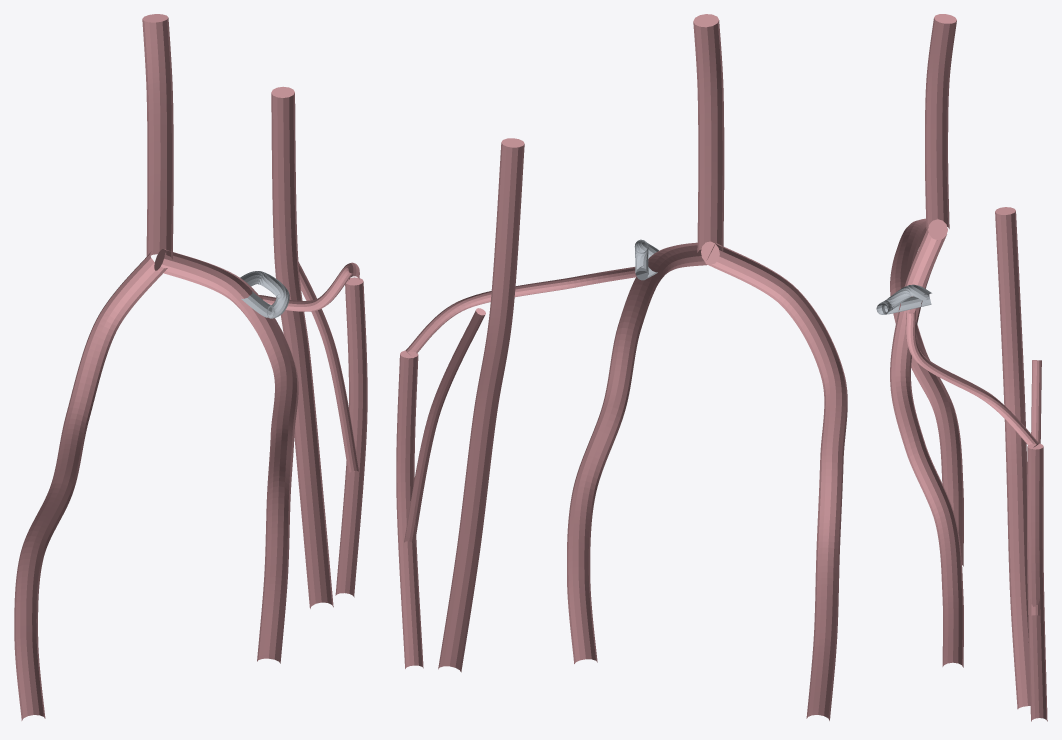
File: craniocervical_normal.glb
3 renders of one model, left to right at view 1: azimuth 30°, elevation 25°; view 2: azimuth 150°, elevation 25°; view 3: azimuth 270°, elevation 25°, orthographic. The views are drawn at different scales.
Parts seen in each view (by area): view 1: Vertebral esquerda (V1–V4 esquemático), ACI cervical — referência, Vertebral direita (V1–V4 esquemático), Basilar, Carótida externa — referência, Faríngea ascendente, Forame transversário C1 — guia, Artéria occipital; view 2: ACI cervical — referência, Vertebral esquerda (V1–V4 esquemático), Vertebral direita (V1–V4 esquemático), Basilar, Carótida externa — referência, Faríngea ascendente, Artéria occipital; view 3: ACI cervical — referência, Vertebral direita (V1–V4 esquemático), Vertebral esquerda (V1–V4 esquemático), Basilar, Carótida externa — referência, Artéria occipital, Forame transversário C1 — guia, Faríngea ascendente.
Part boxes in pixels (x1,y1,x2,y2): Vertebral esquerda (V1–V4 esquemático): (14, 252, 167, 720); ACI cervical — referência: (271, 86, 333, 608); Vertebral direita (V1–V4 esquemático): (154, 249, 298, 663); Basilar: (142, 14, 173, 259); Carótida externa — referência: (335, 277, 367, 597); Faríngea ascendente: (298, 261, 359, 473); Forame transversário C1 — guia: (240, 271, 289, 318); Artéria occipital: (259, 262, 359, 311); ACI cervical — referência: (438, 138, 524, 672); Vertebral esquerda (V1–V4 esquemático): (705, 243, 847, 720); Vertebral direita (V1–V4 esquemático): (567, 241, 719, 663); Basilar: (693, 14, 724, 252); Carótida externa — referência: (396, 350, 423, 668); Faríngea ascendente: (404, 308, 485, 544); Artéria occipital: (405, 267, 636, 355); ACI cervical — referência: (995, 207, 1030, 709); Vertebral direita (V1–V4 esquemático): (890, 228, 963, 667); Vertebral esquerda (V1–V4 esquemático): (890, 218, 963, 566); Basilar: (925, 14, 956, 229); Carótida externa — referência: (1027, 443, 1047, 721); Artéria occipital: (905, 310, 1038, 449); Forame transversário C1 — guia: (876, 284, 931, 314); Faríngea ascendente: (1030, 360, 1041, 615).
Size of the model in its own units: 5.41 by 8.84 by 2.28.
